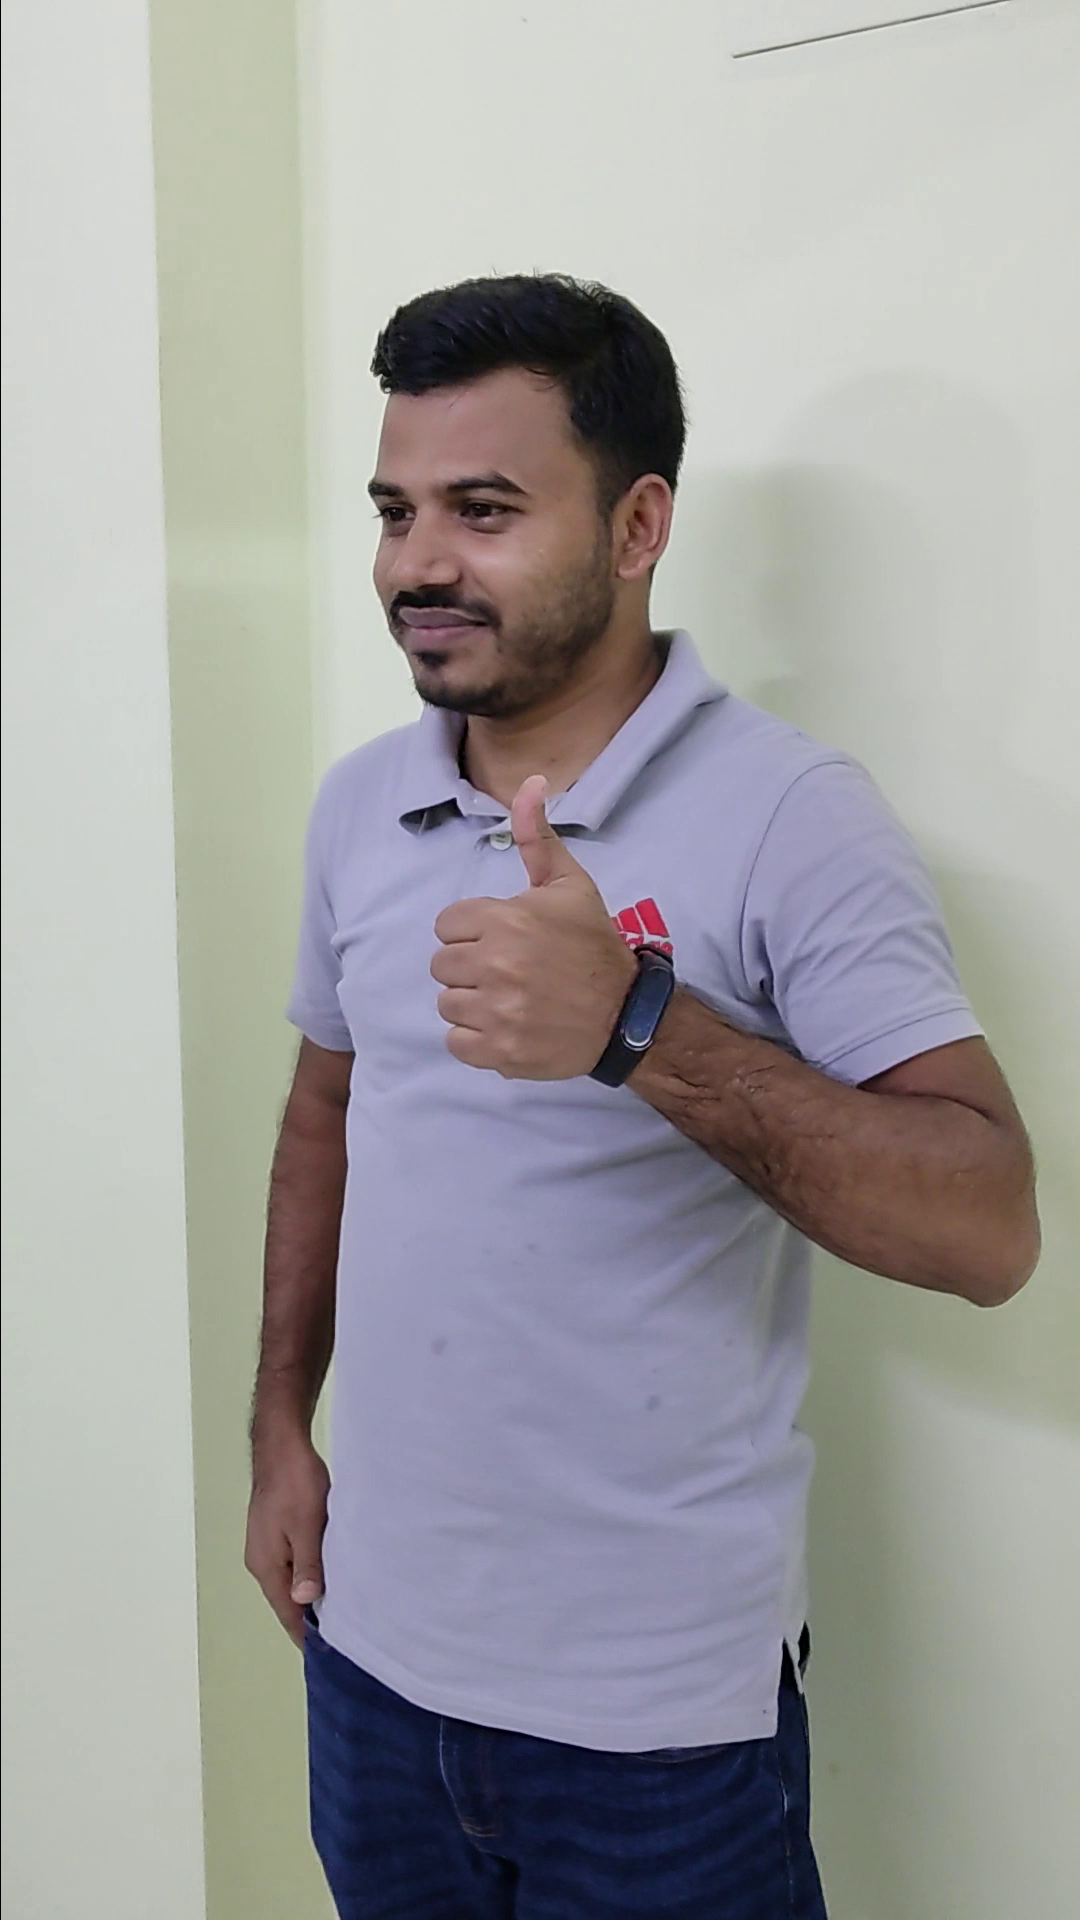Like: (406, 760, 647, 1096)
None: (210, 1375, 357, 1668)
